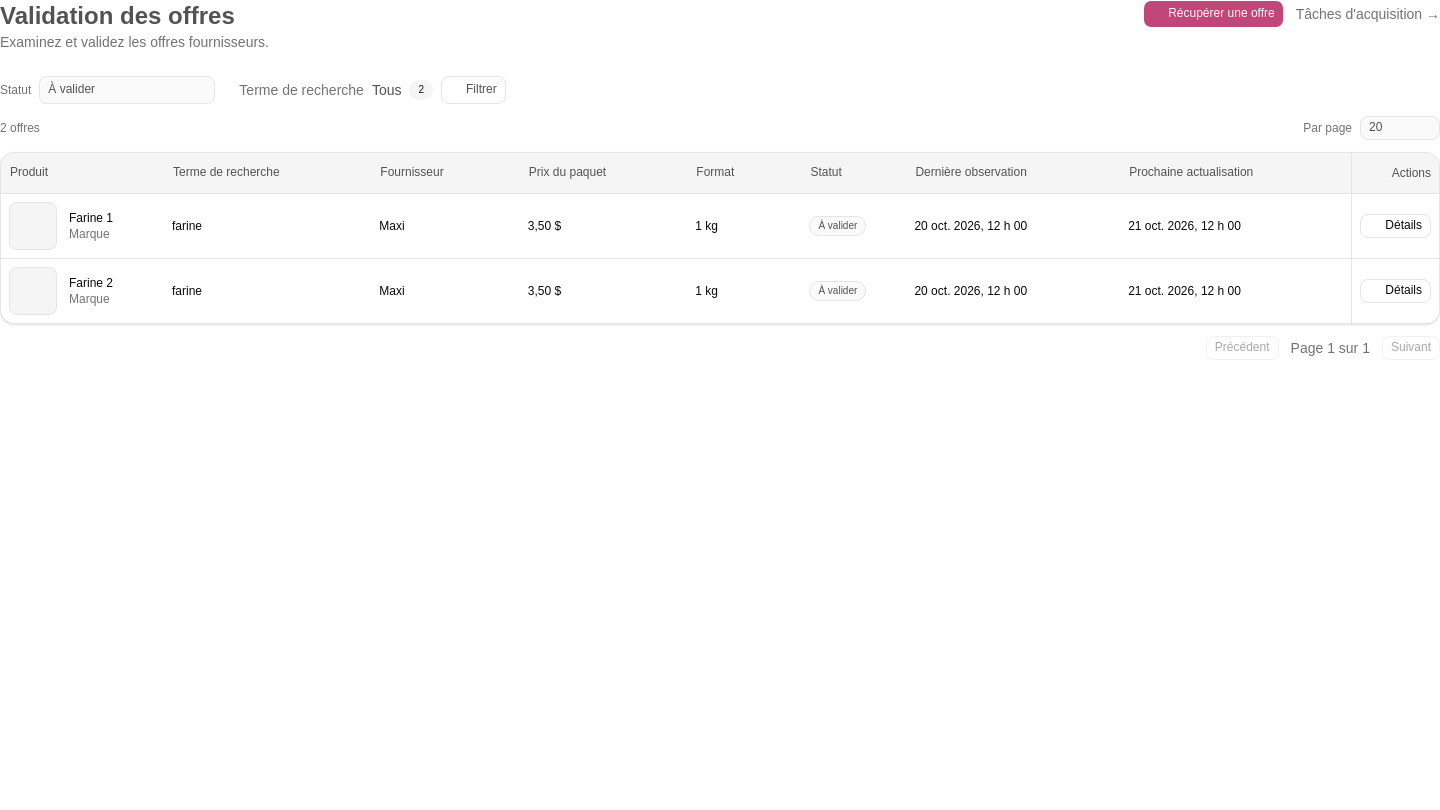
Test: Procurement review › opens details explicitly and restores focus on Escape
The image size is (1440, 810).
Click the button with aria-label "Consulter Farine 2".
click(1396, 290)  # box [1360,278,1431,302]
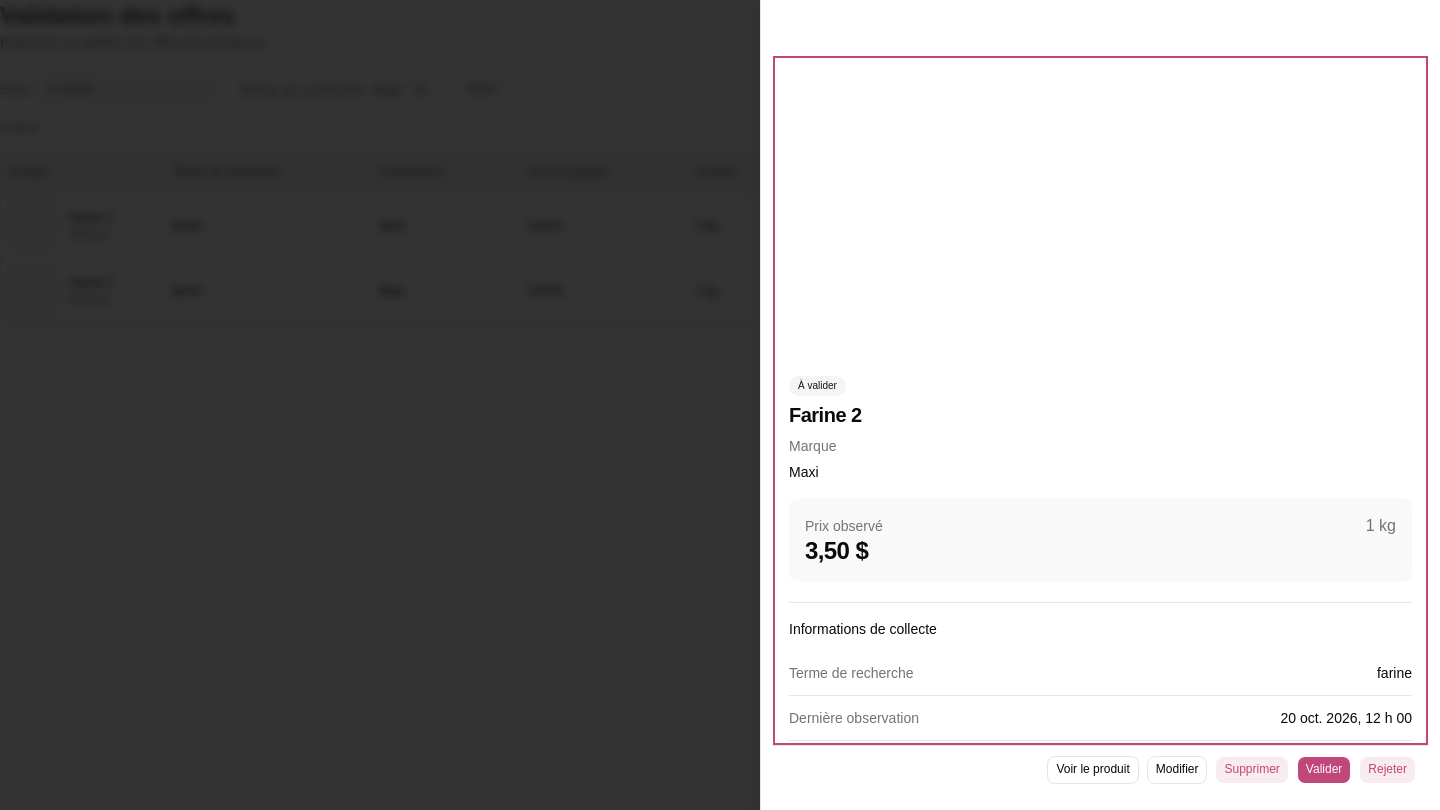
Result: the element named "Détail de Farine 2" is shown at [773,56,1428,794]
Press Escape
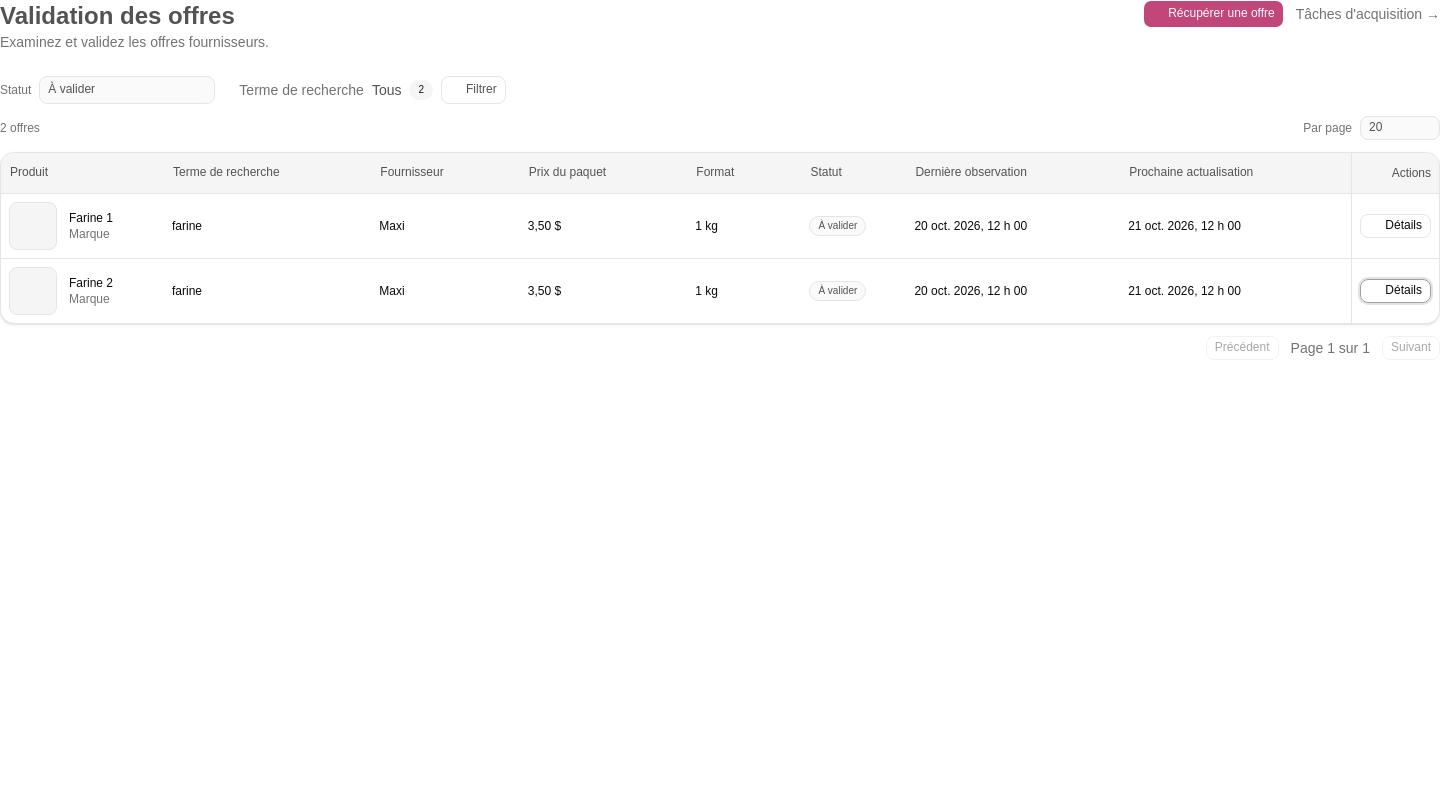
Result: the dialog is gone
